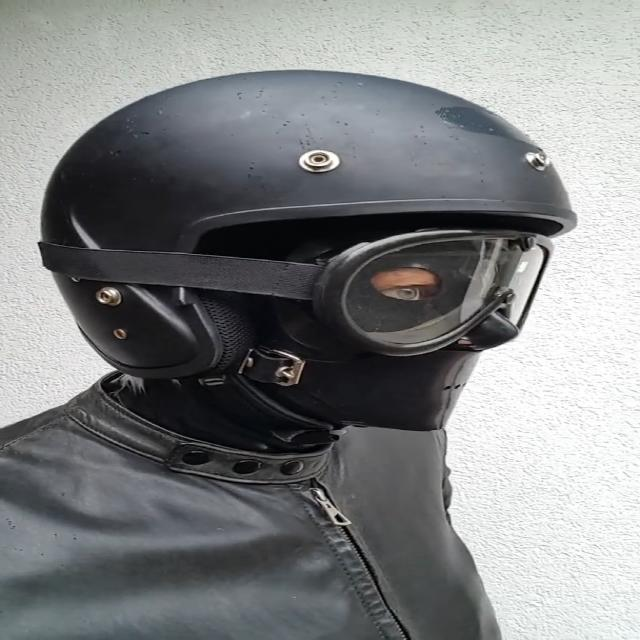Helmet_Wearer: (35, 53, 591, 493)
Jacket_Wearer: (5, 348, 556, 640)
Person: (0, 73, 596, 640)
